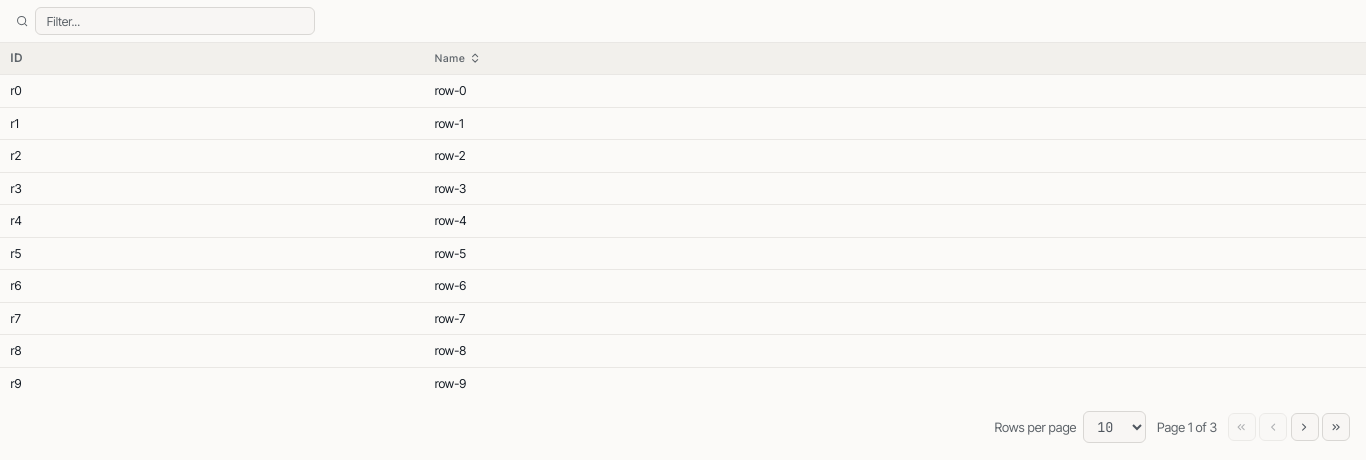
Test: DataTable › clamps to the final page when filtering reduces the page count
This screenshot has width=1366, height=460.
Click the button named "Go to next page" at [1304, 427], box [1290,413,1318,441]
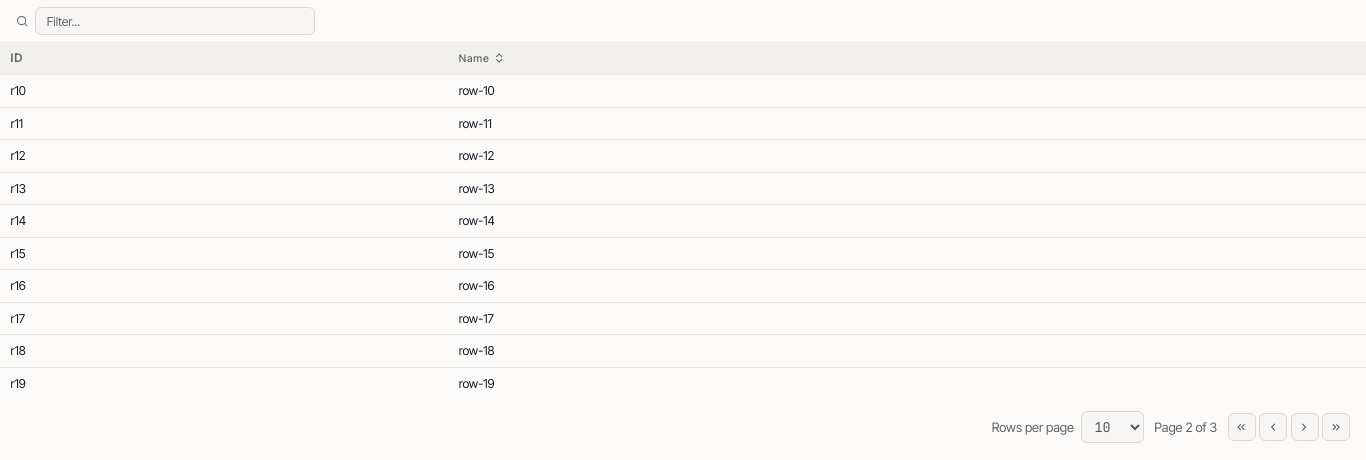
Click the button named "Go to next page" at [1304, 427], box [1290,413,1318,441]
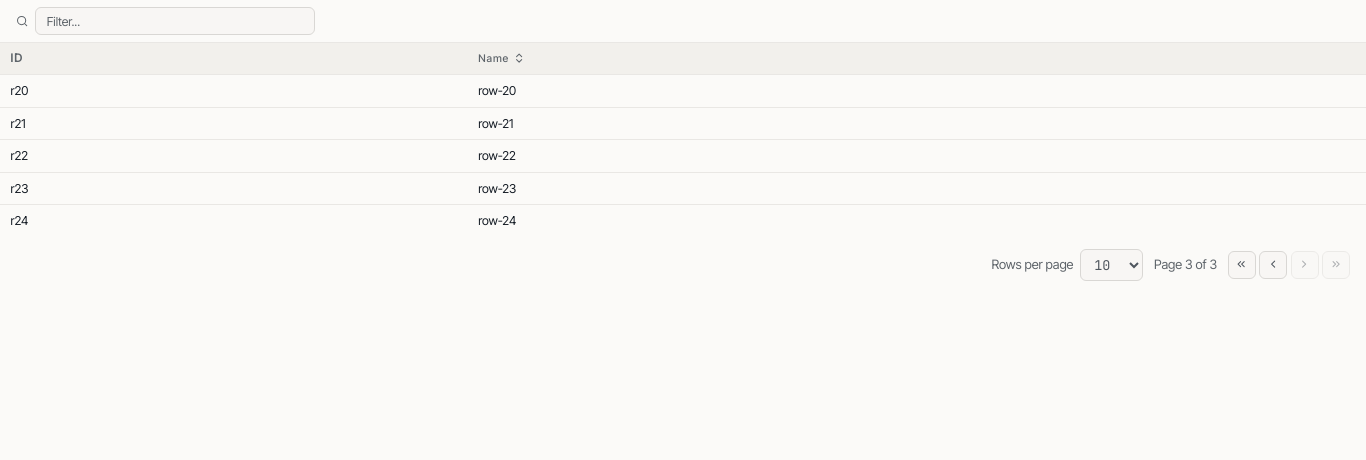
Now the text "row-20" is shown, box [468,74,1365,107]
Type "row-1" into the field labelled "Filter..." at [175, 21], box [35,7,315,35]
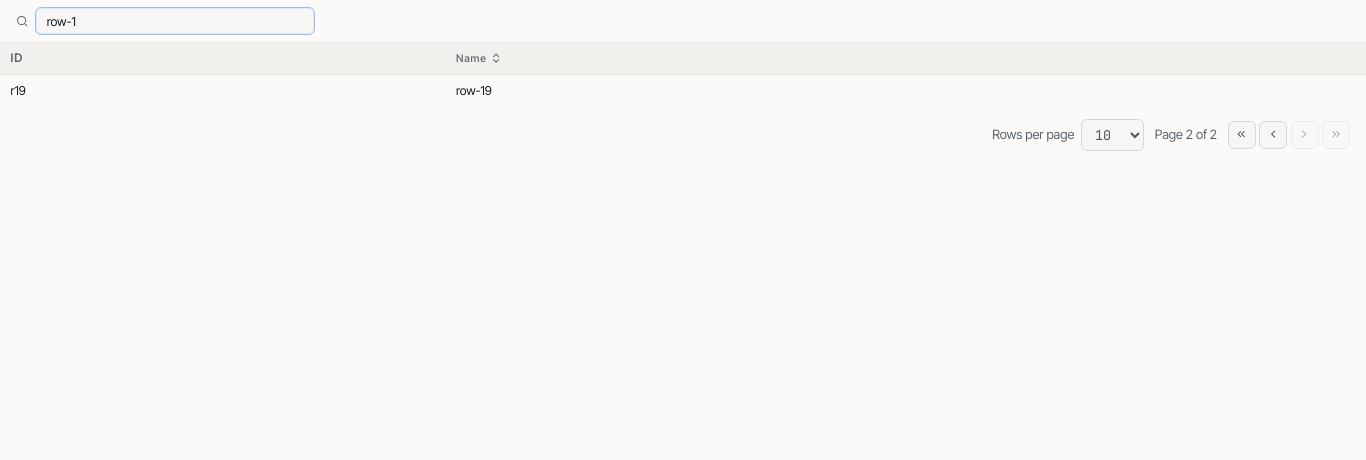
Expected: the text "row-0" is not shown
Now the text "row-19" is shown, box [446,74,1365,106]
